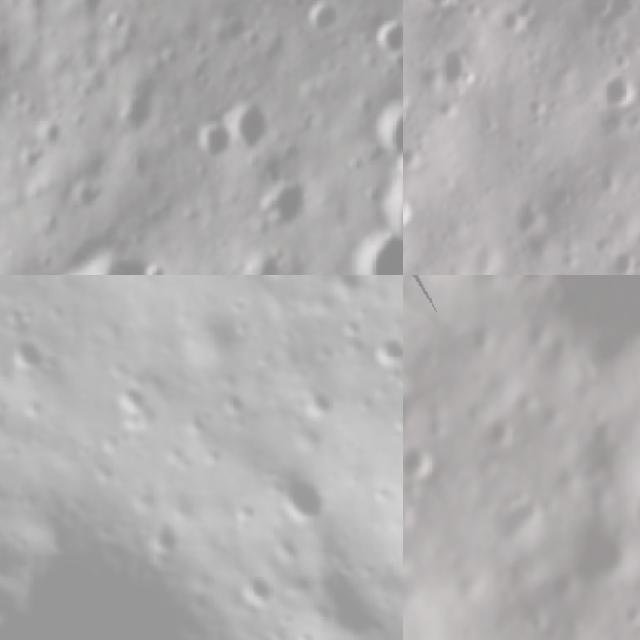crater: (0, 475, 293, 640), (494, 275, 640, 399), (544, 520, 640, 606), (173, 297, 257, 383), (264, 459, 342, 542), (478, 479, 556, 554), (0, 0, 35, 121), (105, 372, 167, 433), (260, 520, 318, 579), (255, 182, 313, 239), (0, 323, 55, 381), (227, 561, 279, 618), (231, 96, 277, 159), (280, 414, 332, 465), (347, 230, 403, 275), (403, 435, 447, 492), (312, 275, 377, 313), (186, 118, 232, 171), (431, 37, 476, 90), (142, 514, 188, 564), (593, 68, 639, 117), (375, 162, 403, 242), (509, 198, 553, 247), (372, 96, 403, 161), (361, 12, 403, 59), (0, 291, 42, 338), (297, 381, 339, 426), (180, 401, 222, 444), (215, 382, 257, 425), (156, 432, 197, 475), (369, 329, 403, 378), (223, 492, 264, 532), (18, 388, 57, 430), (300, 1, 338, 44), (403, 184, 425, 237), (403, 491, 426, 540), (238, 253, 289, 275), (338, 316, 368, 346), (403, 359, 419, 415), (614, 597, 640, 631), (416, 0, 467, 16), (245, 623, 283, 640), (293, 622, 327, 640), (403, 550, 416, 593), (74, 440, 96, 465), (631, 491, 640, 532)
